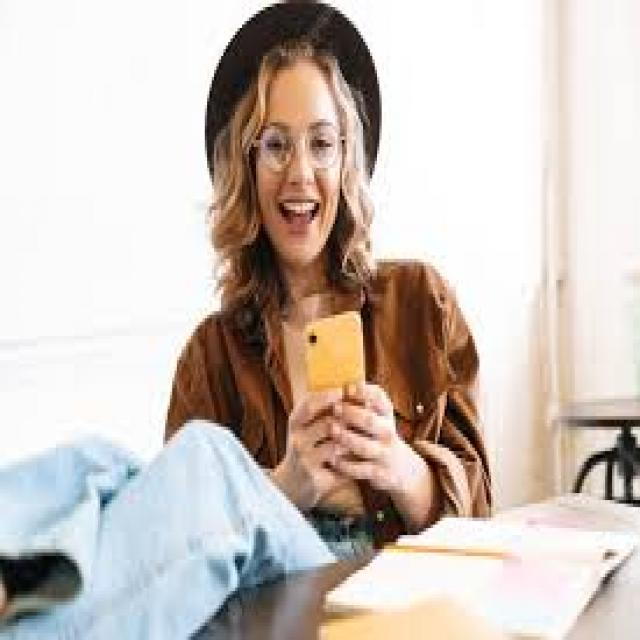hat: (203, 0, 390, 200)
